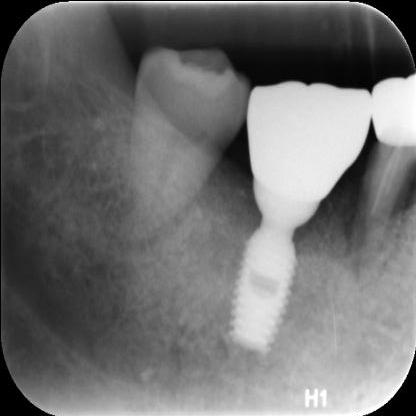Bicon: (226, 216, 298, 364)
